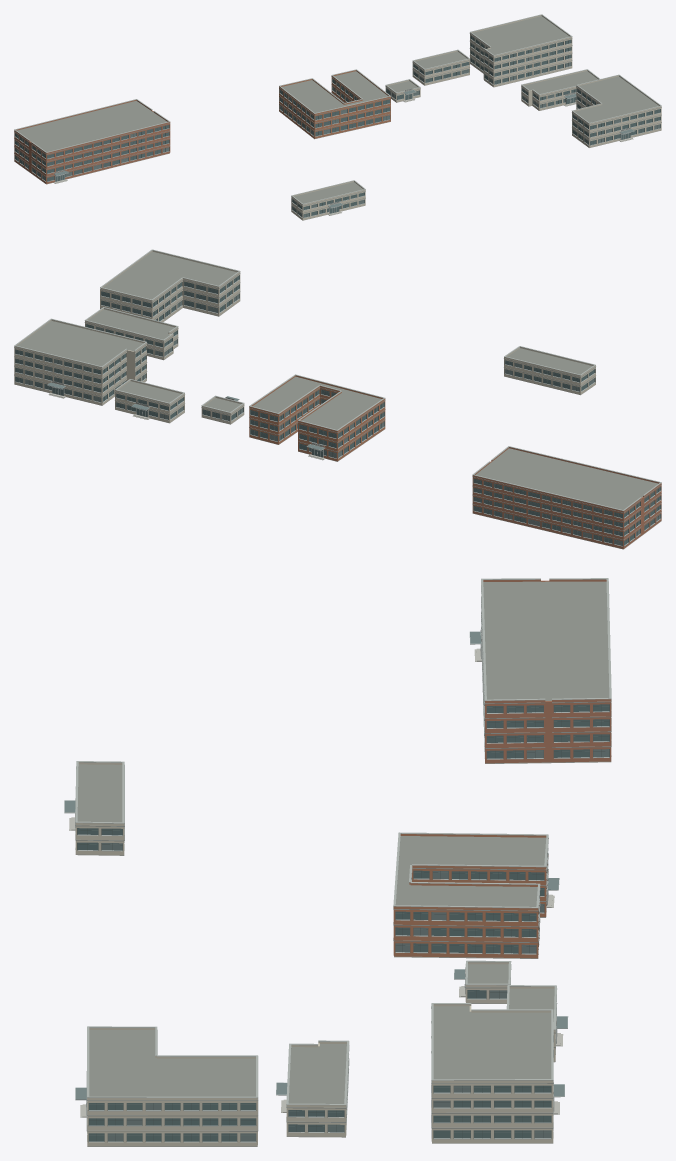
Rendered from south_service_buildings.glb.
The picture shows the model from 3 angles, top to bottom: view 1: azimuth 30°, elevation 25°; view 2: azimuth 150°, elevation 25°; view 3: azimuth 270°, elevation 25°; orthographic projection. The views are drawn at different scales.
Parts seen in each view (by area): view 1: south_service_buildings_FacultyRoof, south_service_buildings_ServicePlaster, south_service_buildings_WindowGlass, south_service_buildings_HumanitiesWarmBrick, south_service_buildings_FacultyDarkPanel, south_service_buildings_SolarLabBrick, south_service_buildings_Teaching5TileJoint, south_service_buildings_WindowAluminium, south_service_buildings_WindowReveal, south_service_buildings_WindowGlassLight, south_service_buildings_WindowRubber, south_service_buildings_EntryStone; view 2: south_service_buildings_FacultyRoof, south_service_buildings_ServicePlaster, south_service_buildings_WindowGlass, south_service_buildings_HumanitiesWarmBrick, south_service_buildings_Teaching5TileJoint, south_service_buildings_SolarLabBrick, south_service_buildings_FacultyDarkPanel, south_service_buildings_WindowAluminium, south_service_buildings_WindowReveal, south_service_buildings_WindowRubber, south_service_buildings_WindowGlassLight, south_service_buildings_EntryStone; view 3: south_service_buildings_FacultyRoof, south_service_buildings_ServicePlaster, south_service_buildings_WindowGlass, south_service_buildings_SolarLabBrick, south_service_buildings_Teaching5TileJoint, south_service_buildings_HumanitiesWarmBrick, south_service_buildings_FacultyDarkPanel, south_service_buildings_WindowAluminium, south_service_buildings_WindowGlassLight, south_service_buildings_WindowRubber, south_service_buildings_WindowReveal, south_service_buildings_EntryStone.
Boxes of the visible parts, x1=… form: south_service_buildings_FacultyRoof: x1=17, y1=16, x2=658, y2=203; south_service_buildings_ServicePlaster: x1=291, y1=15, x2=661, y2=220; south_service_buildings_WindowGlass: x1=15, y1=36, x2=660, y2=215; south_service_buildings_HumanitiesWarmBrick: x1=14, y1=100, x2=170, y2=183; south_service_buildings_FacultyDarkPanel: x1=14, y1=33, x2=661, y2=213; south_service_buildings_SolarLabBrick: x1=279, y1=70, x2=390, y2=138; south_service_buildings_Teaching5TileJoint: x1=14, y1=14, x2=661, y2=204; south_service_buildings_WindowAluminium: x1=14, y1=39, x2=660, y2=218; south_service_buildings_WindowReveal: x1=14, y1=35, x2=660, y2=217; south_service_buildings_WindowGlassLight: x1=25, y1=47, x2=660, y2=217; south_service_buildings_WindowRubber: x1=15, y1=37, x2=660, y2=216; south_service_buildings_EntryStone: x1=14, y1=64, x2=661, y2=220; south_service_buildings_FacultyRoof: x1=17, y1=251, x2=657, y2=509; south_service_buildings_ServicePlaster: x1=14, y1=250, x2=595, y2=423; south_service_buildings_WindowGlass: x1=15, y1=275, x2=660, y2=545; south_service_buildings_HumanitiesWarmBrick: x1=472, y1=447, x2=661, y2=548; south_service_buildings_Teaching5TileJoint: x1=14, y1=249, x2=661, y2=510; south_service_buildings_SolarLabBrick: x1=249, y1=375, x2=385, y2=461; south_service_buildings_FacultyDarkPanel: x1=14, y1=273, x2=661, y2=540; south_service_buildings_WindowAluminium: x1=15, y1=279, x2=660, y2=546; south_service_buildings_WindowReveal: x1=15, y1=275, x2=661, y2=546; south_service_buildings_WindowRubber: x1=15, y1=276, x2=660, y2=544; south_service_buildings_WindowGlassLight: x1=25, y1=294, x2=660, y2=545; south_service_buildings_EntryStone: x1=14, y1=301, x2=661, y2=549; south_service_buildings_FacultyRoof: x1=77, y1=581, x2=609, y2=1103; south_service_buildings_ServicePlaster: x1=75, y1=762, x2=555, y2=1145; south_service_buildings_WindowGlass: x1=77, y1=704, x2=609, y2=1141; south_service_buildings_SolarLabBrick: x1=393, y1=834, x2=548, y2=958; south_service_buildings_Teaching5TileJoint: x1=75, y1=578, x2=611, y2=1105; south_service_buildings_HumanitiesWarmBrick: x1=483, y1=579, x2=611, y2=763; south_service_buildings_FacultyDarkPanel: x1=75, y1=586, x2=611, y2=1131; south_service_buildings_WindowAluminium: x1=64, y1=593, x2=611, y2=1142; south_service_buildings_WindowGlassLight: x1=64, y1=631, x2=609, y2=1141; south_service_buildings_WindowRubber: x1=78, y1=704, x2=608, y2=1141; south_service_buildings_WindowReveal: x1=77, y1=704, x2=609, y2=1141; south_service_buildings_EntryStone: x1=69, y1=648, x2=610, y2=1146.
Size of the model in its own units: 245 by 14.42 by 112.
